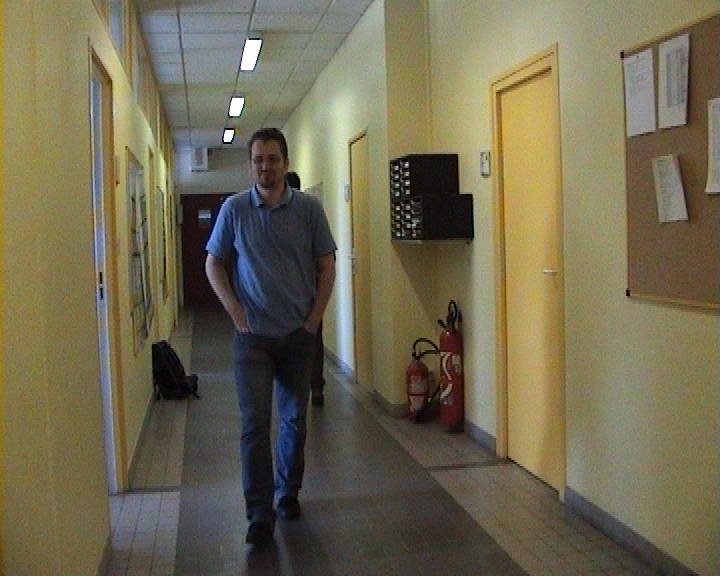leave bag unattended: (133, 318, 426, 495)
